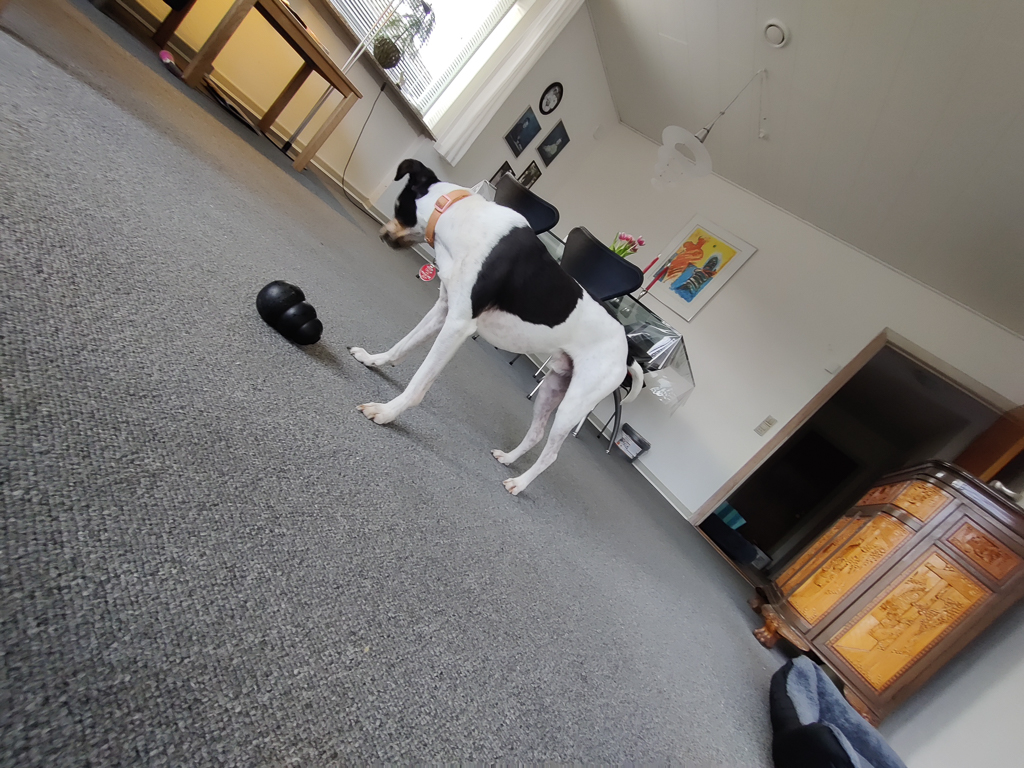Dog: (327, 150, 668, 513)
